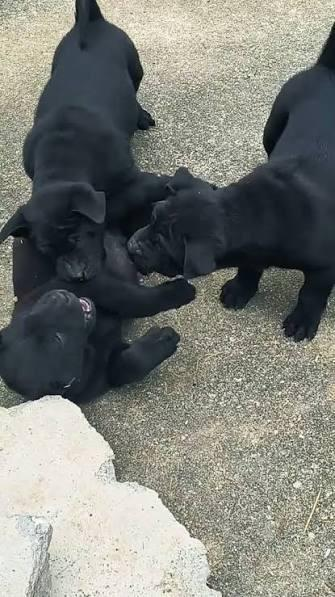puppy-dog: (124, 20, 335, 344), (0, 1, 175, 283), (1, 229, 196, 405)
